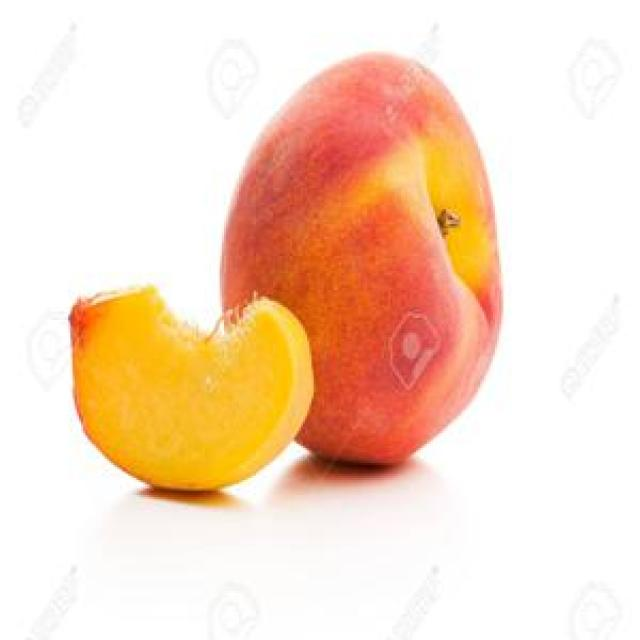peach: (221, 54, 501, 463), (71, 286, 312, 489)
